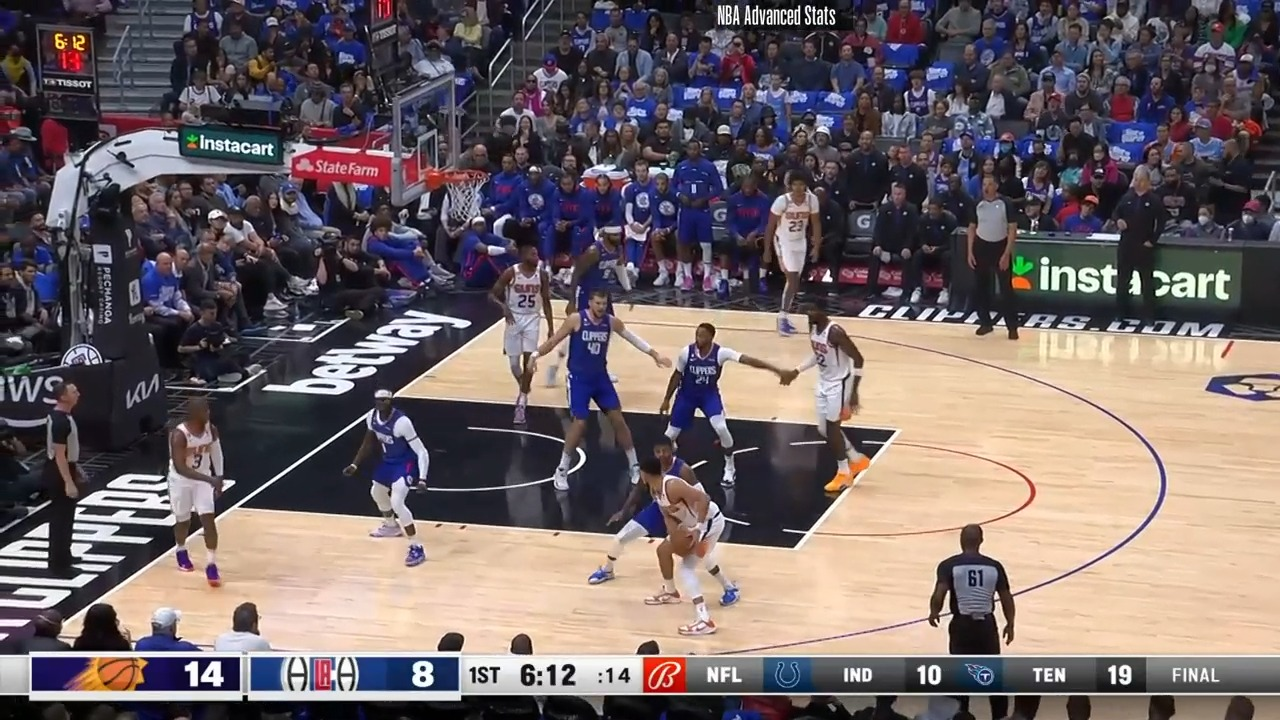net: (425, 166, 488, 220)
player: (538, 288, 667, 492), (655, 320, 787, 495), (778, 291, 872, 494), (594, 436, 690, 592), (651, 446, 727, 641), (353, 390, 434, 567), (158, 396, 225, 588), (493, 242, 558, 422), (761, 175, 820, 340), (560, 225, 633, 329)
referee: (928, 526, 1019, 659), (35, 380, 88, 585), (965, 177, 1024, 342)
